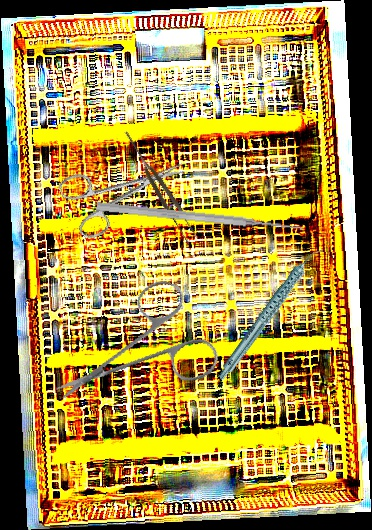Handpiece: (195, 245, 346, 381)
Iris Scissors: (53, 259, 236, 439), (56, 138, 196, 244)
Pusher: (95, 200, 305, 235)
Tissue Forceps: (120, 127, 199, 245)
